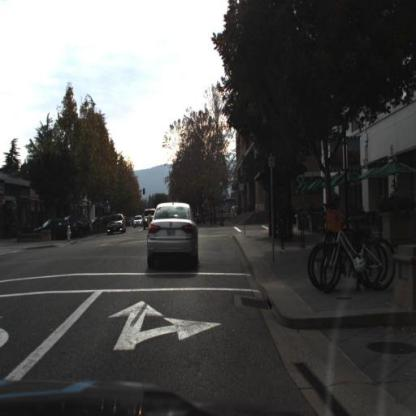car: (147, 202, 200, 272), (36, 217, 78, 244), (104, 211, 128, 238), (106, 213, 128, 237), (144, 207, 157, 231), (133, 214, 146, 233), (133, 216, 144, 229)
pedestrian: (254, 201, 262, 227), (255, 203, 261, 224)
